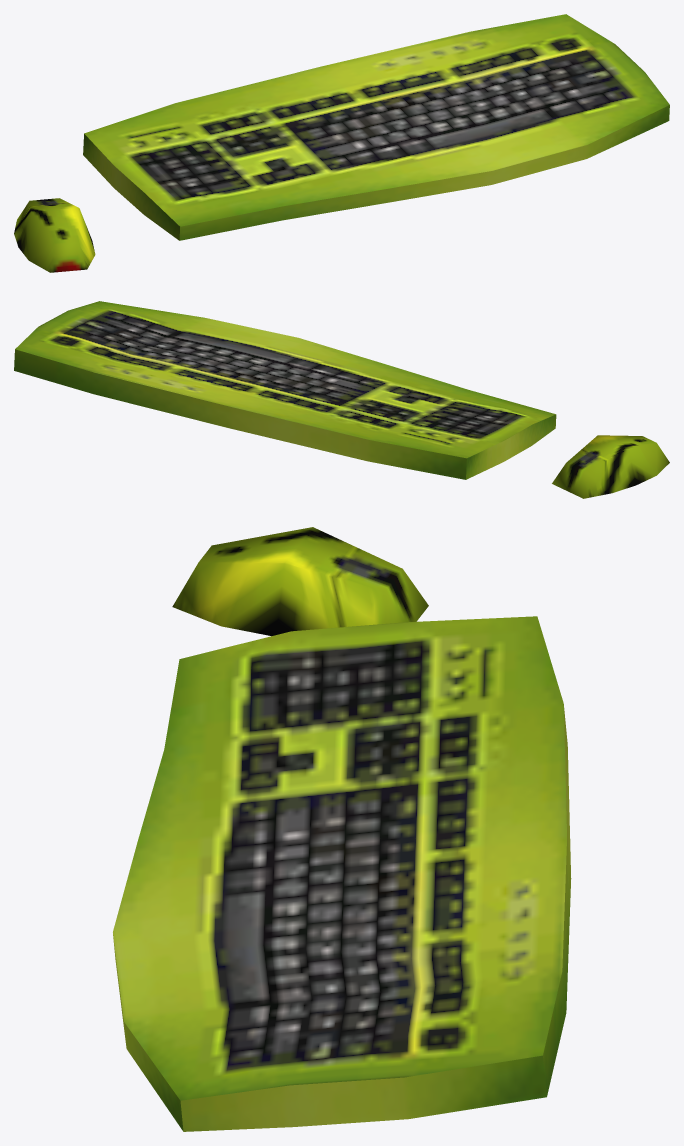
Rendered from alienware_keyboard.fbx.
3 renders of one model, top to bottom at view 1: azimuth 30°, elevation 25°; view 2: azimuth 150°, elevation 25°; view 3: azimuth 270°, elevation 25°, orthographic. The views are drawn at different scales.
Visible parts, largest first — view 1: mesh_0, mesh_1; view 2: mesh_0, mesh_1; view 3: mesh_0, mesh_1.
Boxes of the visible parts, bbox=[...] form: mesh_0: bbox=[83, 14, 669, 240]; mesh_1: bbox=[14, 198, 95, 272]; mesh_0: bbox=[14, 301, 556, 479]; mesh_1: bbox=[552, 435, 669, 498]; mesh_0: bbox=[113, 616, 571, 1131]; mesh_1: bbox=[172, 527, 428, 636].
Size of the model in its own units: 66.64 by 4.33 by 22.71.
1 material, 1 textured.
